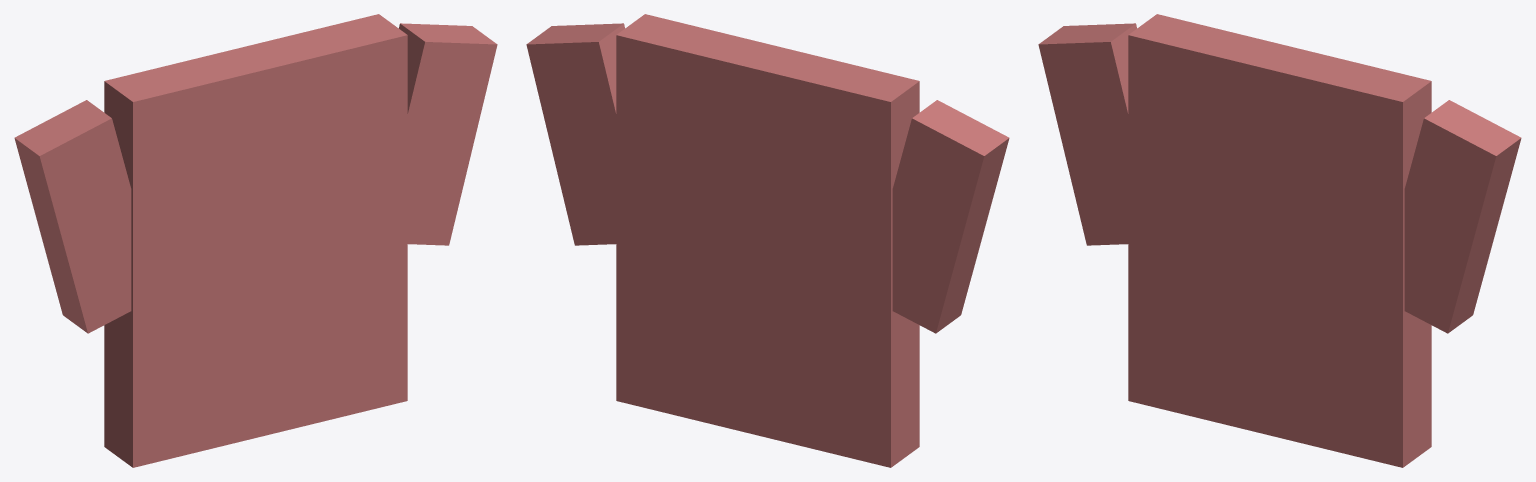
The model's file is wool-knit.glb.
The picture shows the model from 3 angles, left to right: view 1: azimuth 30°, elevation 25°; view 2: azimuth 150°, elevation 25°; view 3: azimuth 330°, elevation 25°; orthographic projection.
Visible parts, largest first — view 1: Clothes_WoolKnit_Torso, Clothes_WoolKnit_Sleeve, Clothes_WoolKnit_Sleeve.001; view 2: Clothes_WoolKnit_Torso, Clothes_WoolKnit_Sleeve, Clothes_WoolKnit_Sleeve.001; view 3: Clothes_WoolKnit_Torso, Clothes_WoolKnit_Sleeve.001, Clothes_WoolKnit_Sleeve.
Part boxes in pixels (x1=…): Clothes_WoolKnit_Torso: x1=104, y1=14, x2=407, y2=467; Clothes_WoolKnit_Sleeve: x1=14, y1=100, x2=131, y2=333; Clothes_WoolKnit_Sleeve.001: x1=399, y1=23, x2=497, y2=245; Clothes_WoolKnit_Torso: x1=616, y1=14, x2=919, y2=467; Clothes_WoolKnit_Sleeve: x1=892, y1=100, x2=1009, y2=333; Clothes_WoolKnit_Sleeve.001: x1=526, y1=23, x2=624, y2=245; Clothes_WoolKnit_Torso: x1=1128, y1=14, x2=1431, y2=467; Clothes_WoolKnit_Sleeve.001: x1=1404, y1=100, x2=1521, y2=333; Clothes_WoolKnit_Sleeve: x1=1038, y1=23, x2=1136, y2=245.
Bounding box in the file's own units: 0.3668 × 0.28 × 0.04.
